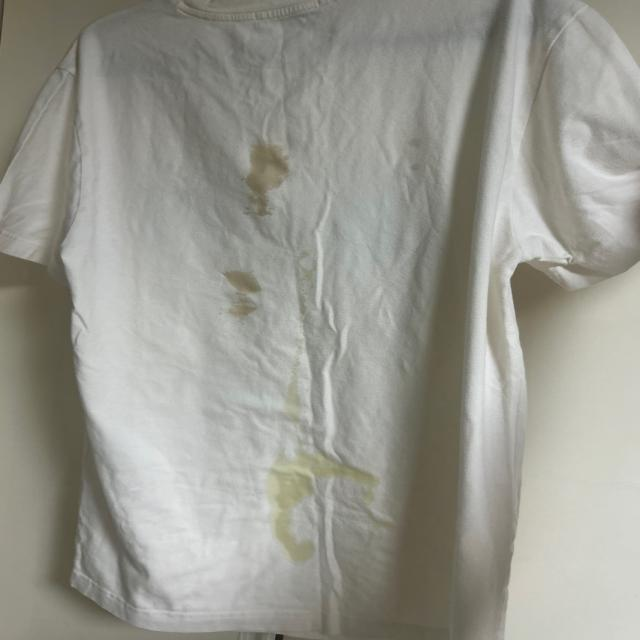stain: (252, 447, 410, 571), (270, 253, 324, 440), (230, 134, 293, 222), (205, 250, 268, 320), (380, 132, 440, 178)
